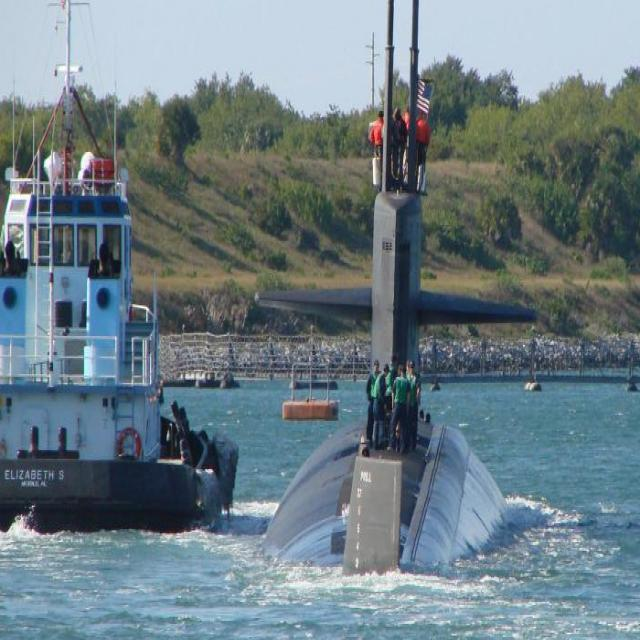submarine: (265, 184, 520, 577)
